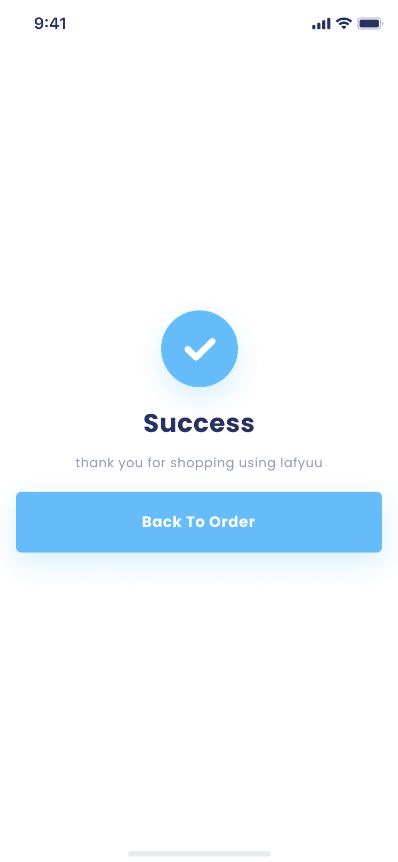Button: (14, 489, 383, 556)
